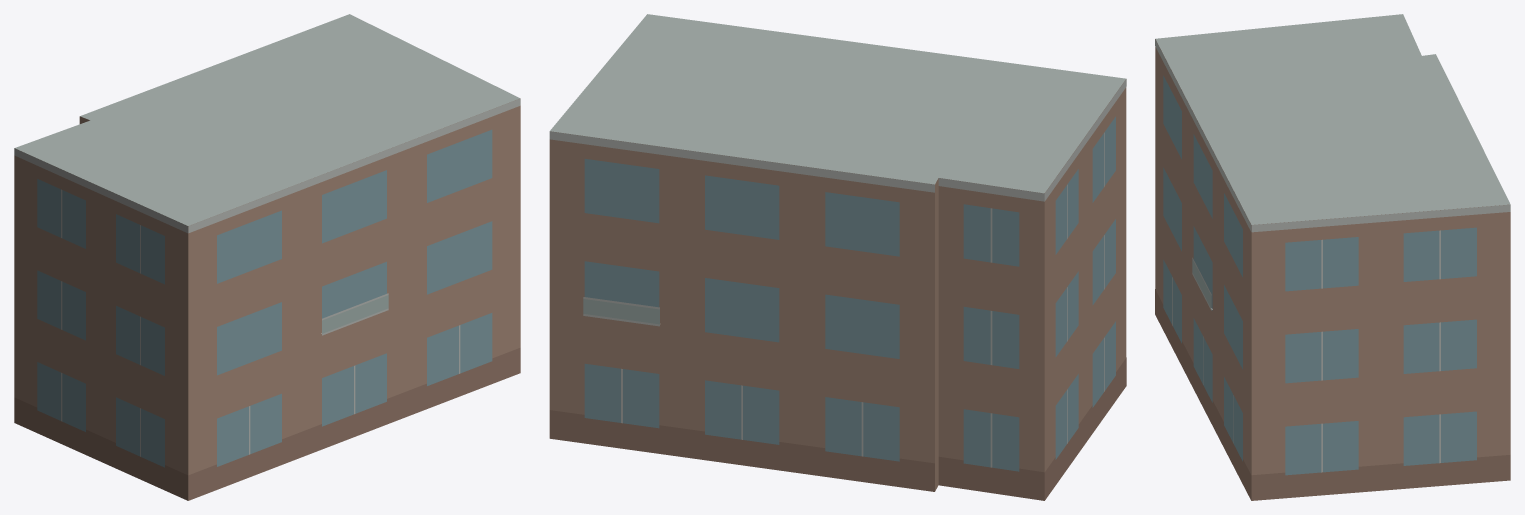
File: survey-upis-32722758.glb
3 renders of one model, left to right at view 1: azimuth 30°, elevation 25°; view 2: azimuth 150°, elevation 25°; view 3: azimuth 270°, elevation 25°, orthographic. The views are drawn at different scales.
Parts seen in each view (by area): view 1: survey-upis-32722758.tmp; view 2: survey-upis-32722758.tmp; view 3: survey-upis-32722758.tmp.
Boxes of the visible parts, box(x1,y1,x2,y2) form: survey-upis-32722758.tmp: box(14, 14, 520, 500); survey-upis-32722758.tmp: box(549, 14, 1126, 500); survey-upis-32722758.tmp: box(1155, 14, 1510, 500).
Bounding box in the file's own units: 15.02 × 9.15 × 10.7.
